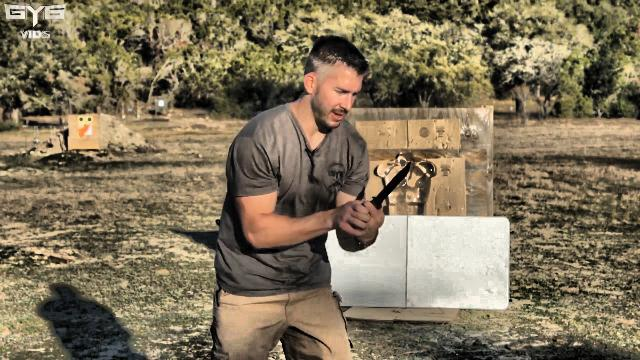knife: (336, 154, 416, 238)
